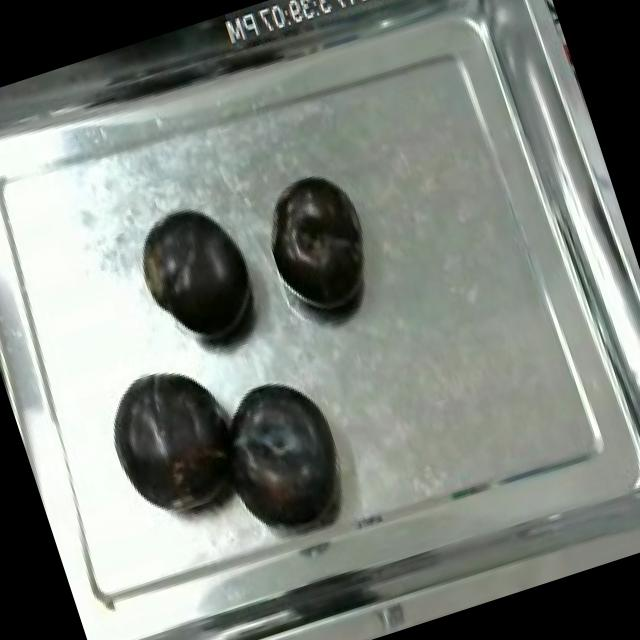Fruit: (91, 348, 258, 528), (200, 362, 362, 546), (122, 189, 272, 362), (251, 162, 389, 330)
